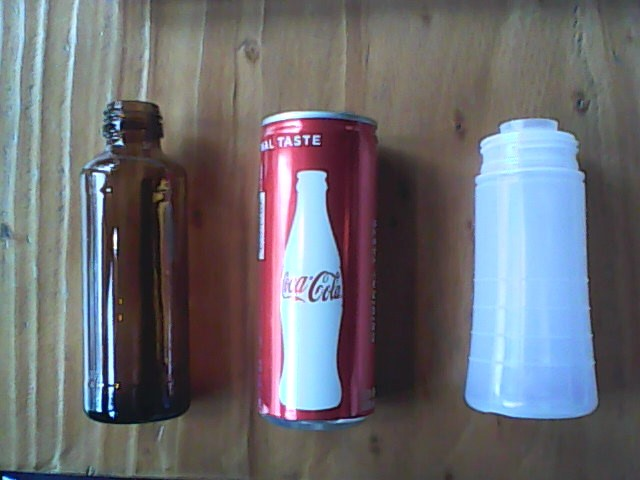Can: (247, 100, 386, 438)
Glass: (75, 91, 199, 429)
Plastic: (460, 107, 604, 427)
